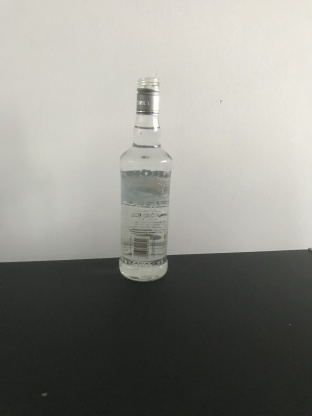nakretka: (134, 76, 161, 114)
